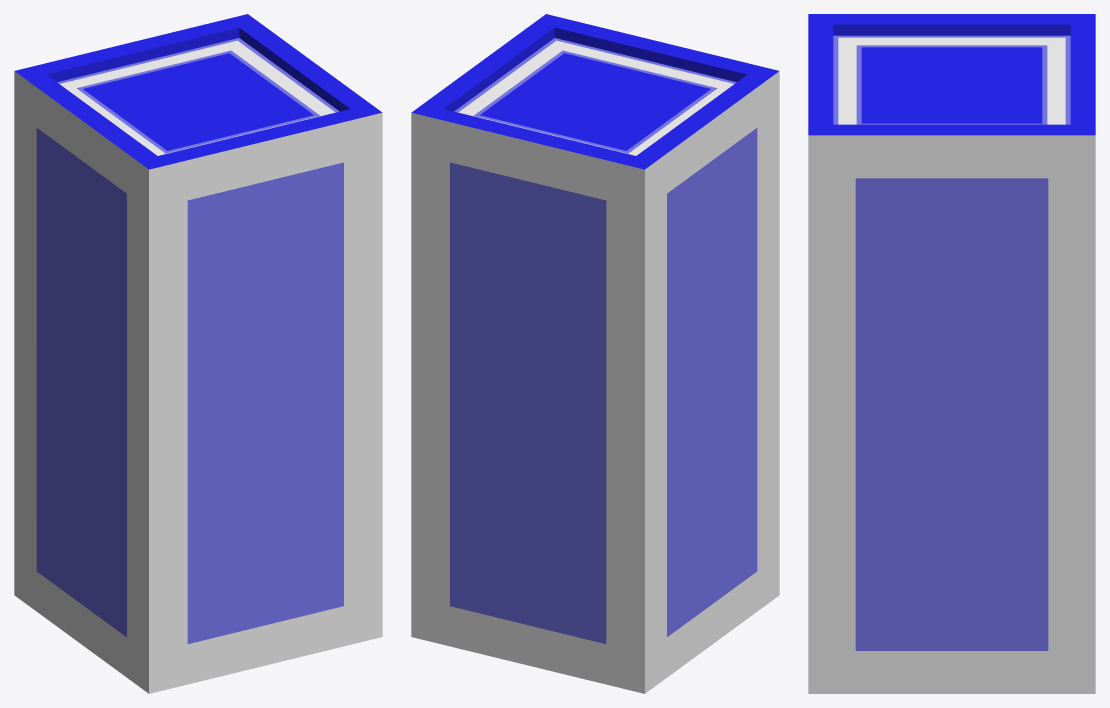
Rendered from PillarBlue.glb.
3 views of the same model, side by side, from view 1: azimuth 30°, elevation 25°; view 2: azimuth 150°, elevation 25°; view 3: azimuth 270°, elevation 25° (orthographic). The views are drawn at different scales.
Visible parts, largest first — view 1: Cube.001; view 2: Cube.001; view 3: Cube.001.
Boxes of the visible parts, x1,y1,x2,y2 form: Cube.001: (14, 14, 382, 693); Cube.001: (411, 14, 779, 693); Cube.001: (808, 14, 1095, 693).
Size of the model in its own units: 1.84 by 4.01 by 1.84.
1 material, 1 textured.
